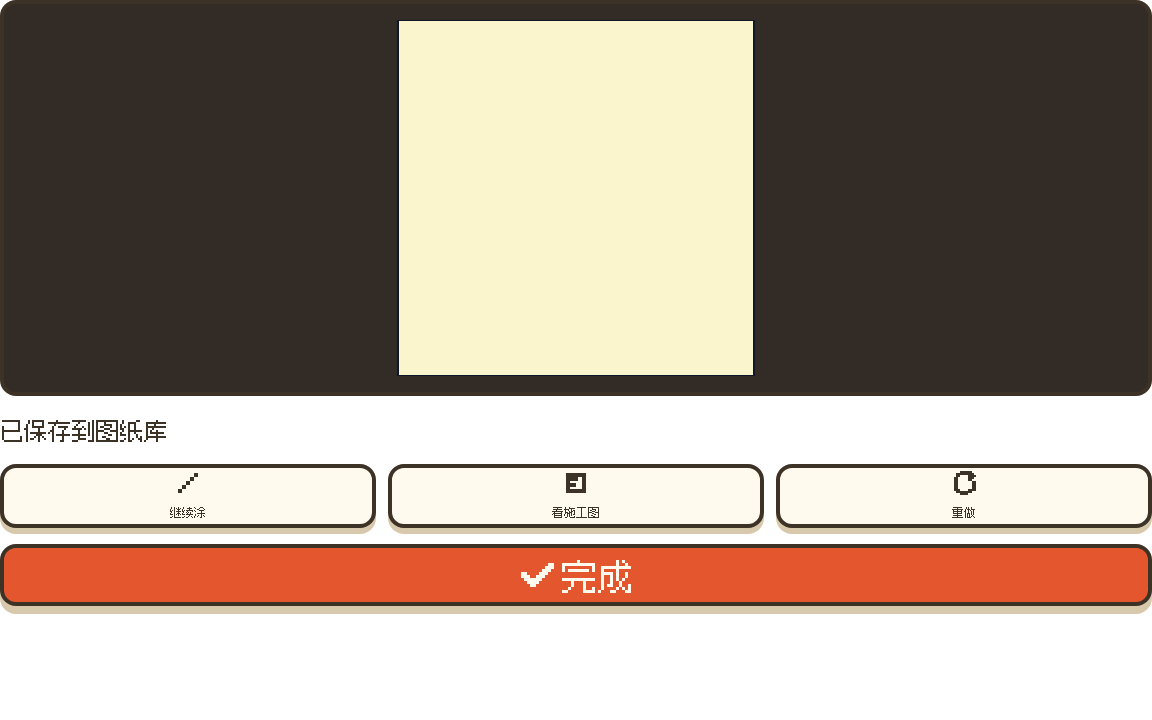
Test: ResultPanel（D1：上半屏成品、三颗图形动作 + 通栏完成，没有打印） › 「查看」打开查看层（本组件自带它，宿主不必知道）
Click the button with test id "result-view-sheet": {"x": 576, "y": 496} [388,464,764,528]
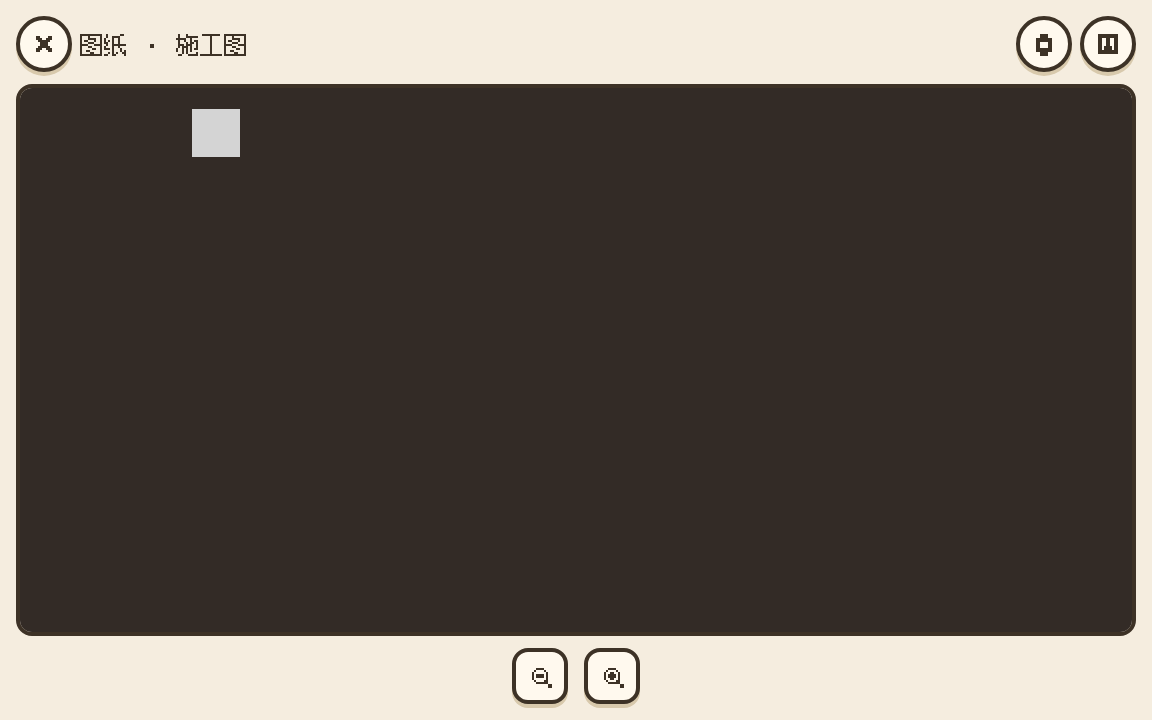
Now the element with test id "sheet-viewer" is shown
